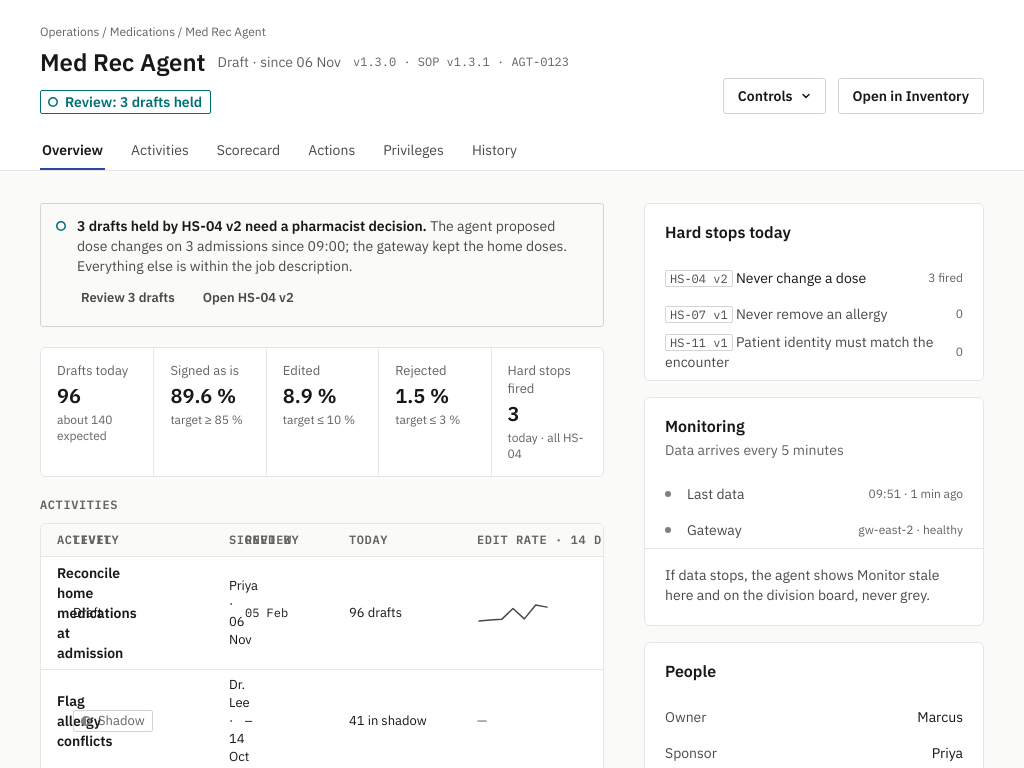
Test: the tour can press "Pause this agent…" for a person who may pause
Click the button "Controls" at [774, 96], box x1=723 y1=78 x2=826 y2=114
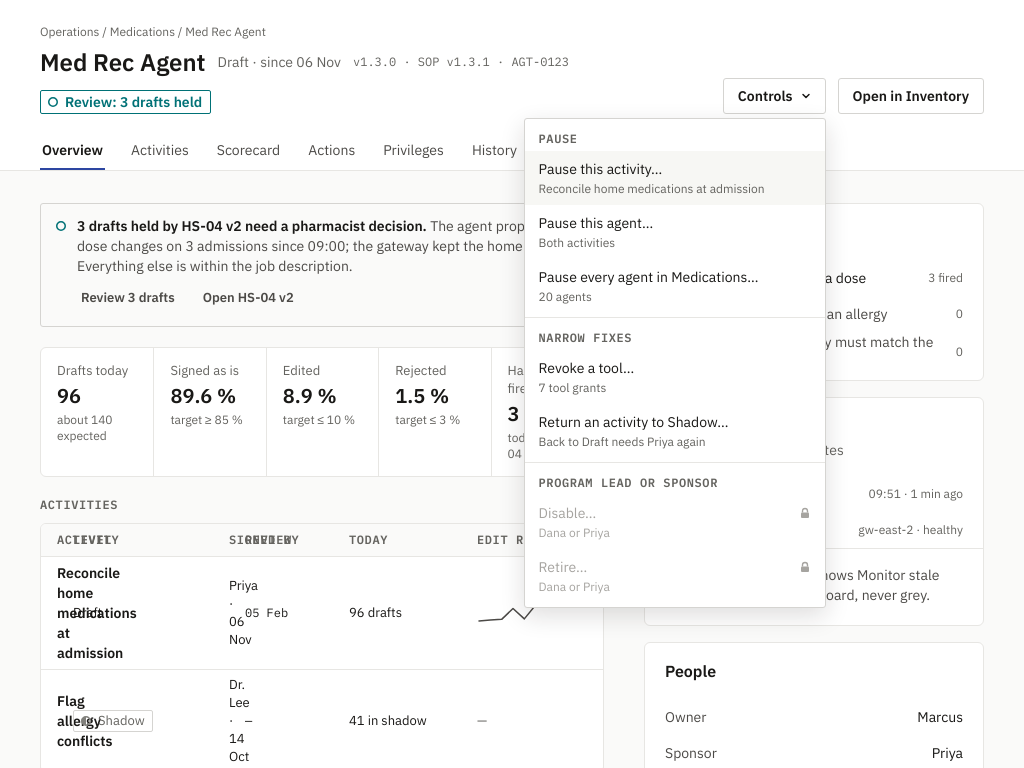
Now the text "Pause this agent…" is shown, box x1=539 y1=213 x2=653 y2=233
